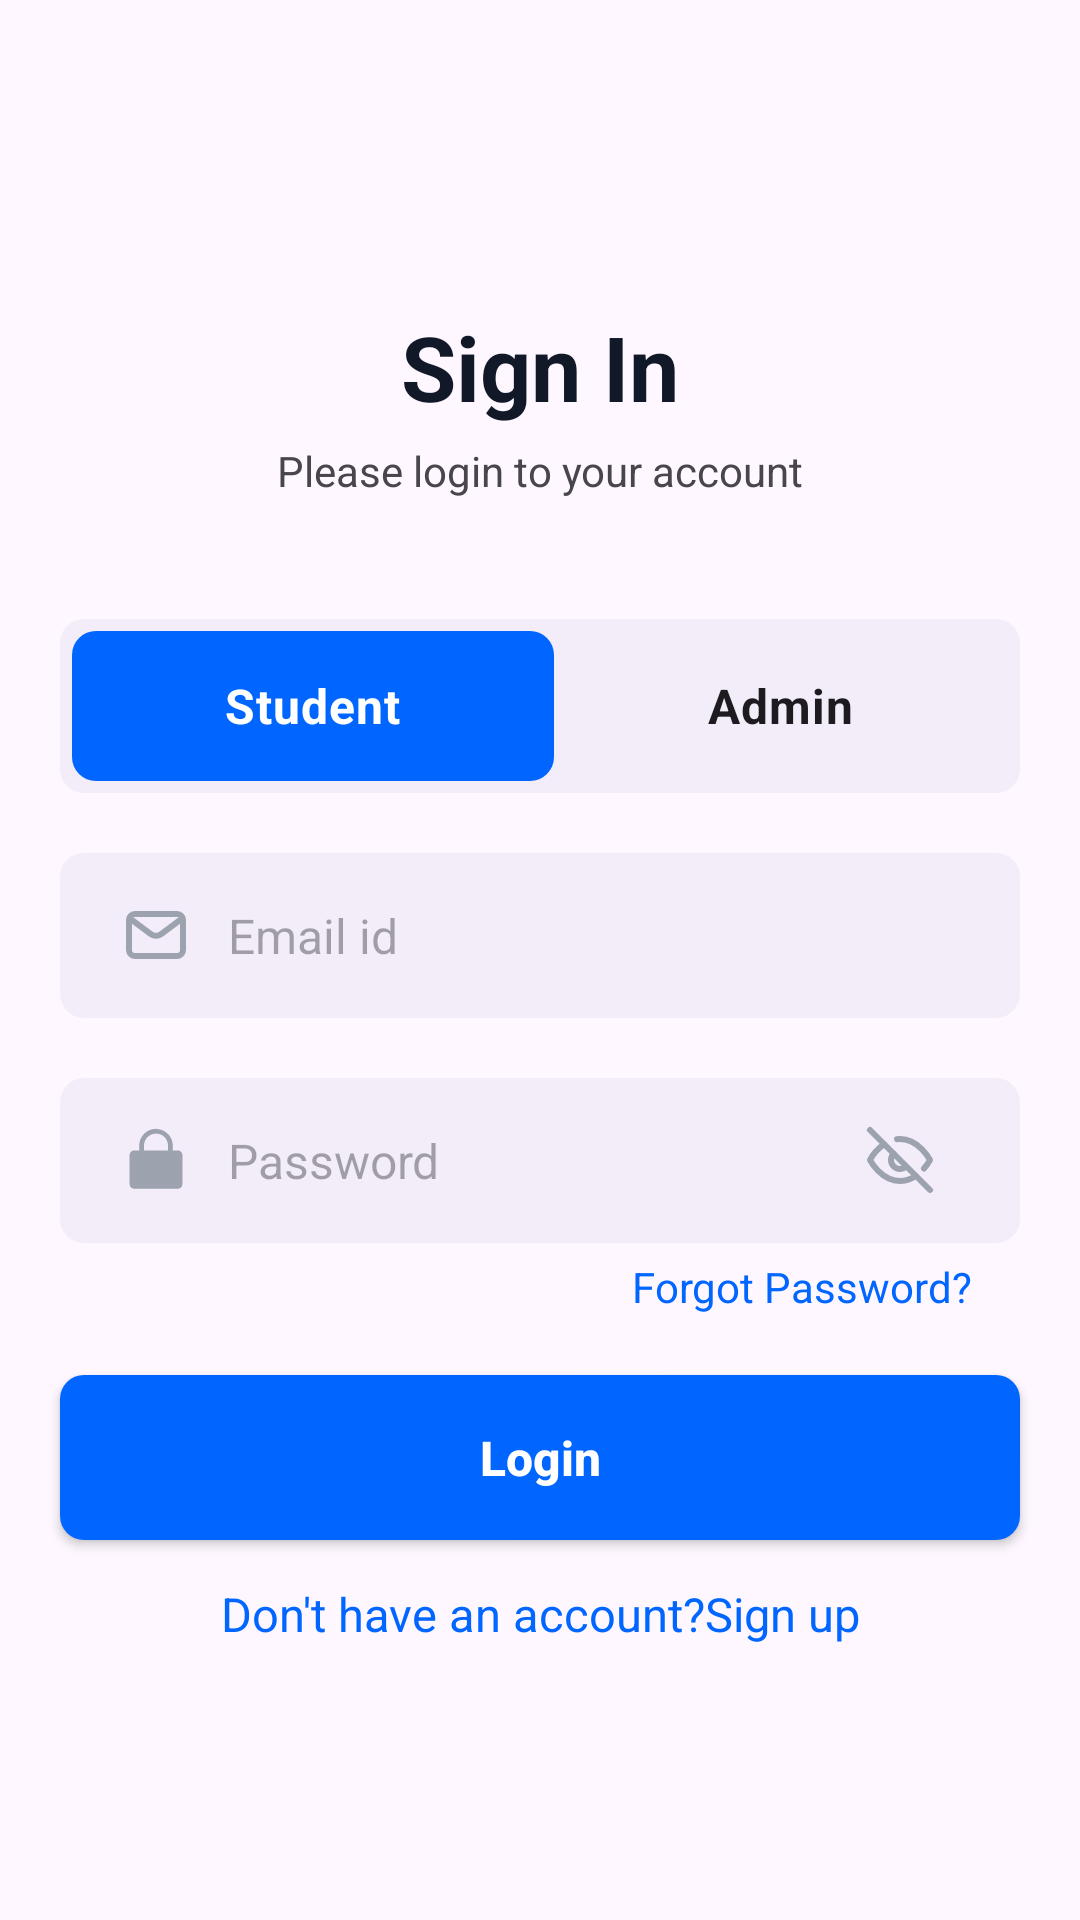

Locate icon controls on the screen. Image size 1080px×1920px, boxes as box(x1, y1, x2, y2).
hide pw: box(867, 1127, 933, 1193)
